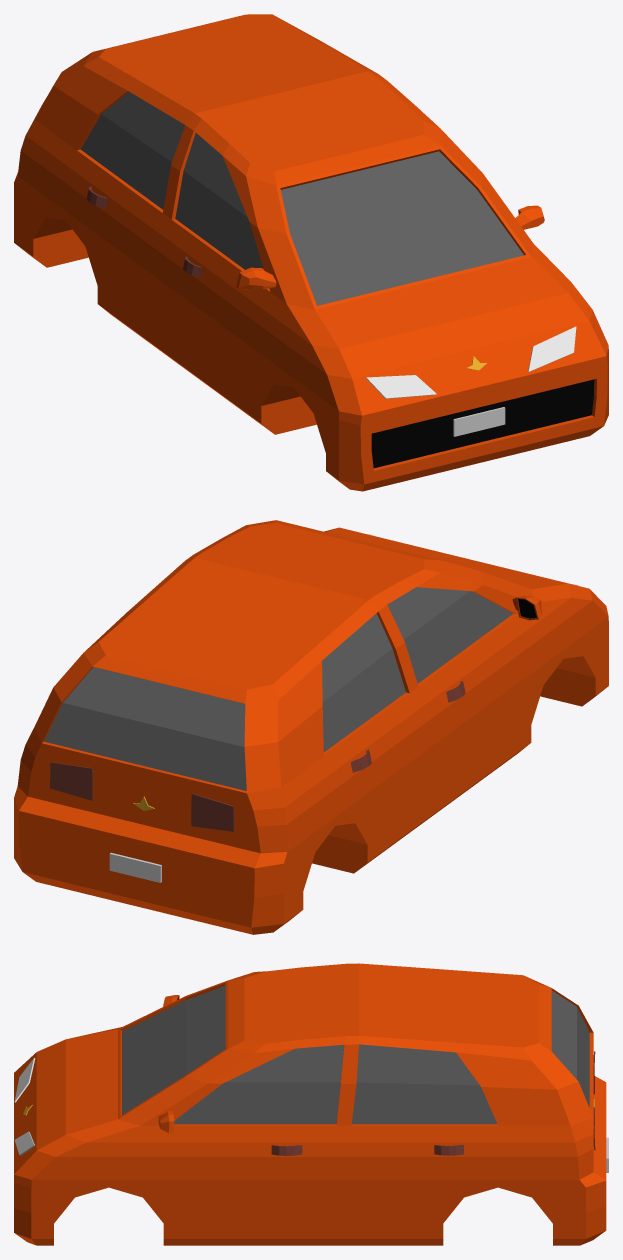
The model's file is Me_Car.fbx.
The picture shows the model from 3 angles, top to bottom: view 1: azimuth 30°, elevation 25°; view 2: azimuth 150°, elevation 25°; view 3: azimuth 270°, elevation 25°; orthographic projection. The views are drawn at different scales.
Visible parts, largest first — view 1: Me_Car; view 2: Me_Car; view 3: Me_Car.
Boxes of the visible parts, x1=… form: Me_Car: x1=14, y1=14, x2=608, y2=491; Me_Car: x1=14, y1=520, x2=608, y2=934; Me_Car: x1=14, y1=963, x2=608, y2=1245.
Size of the model in its own units: 1434 by 2860 by 1036.
